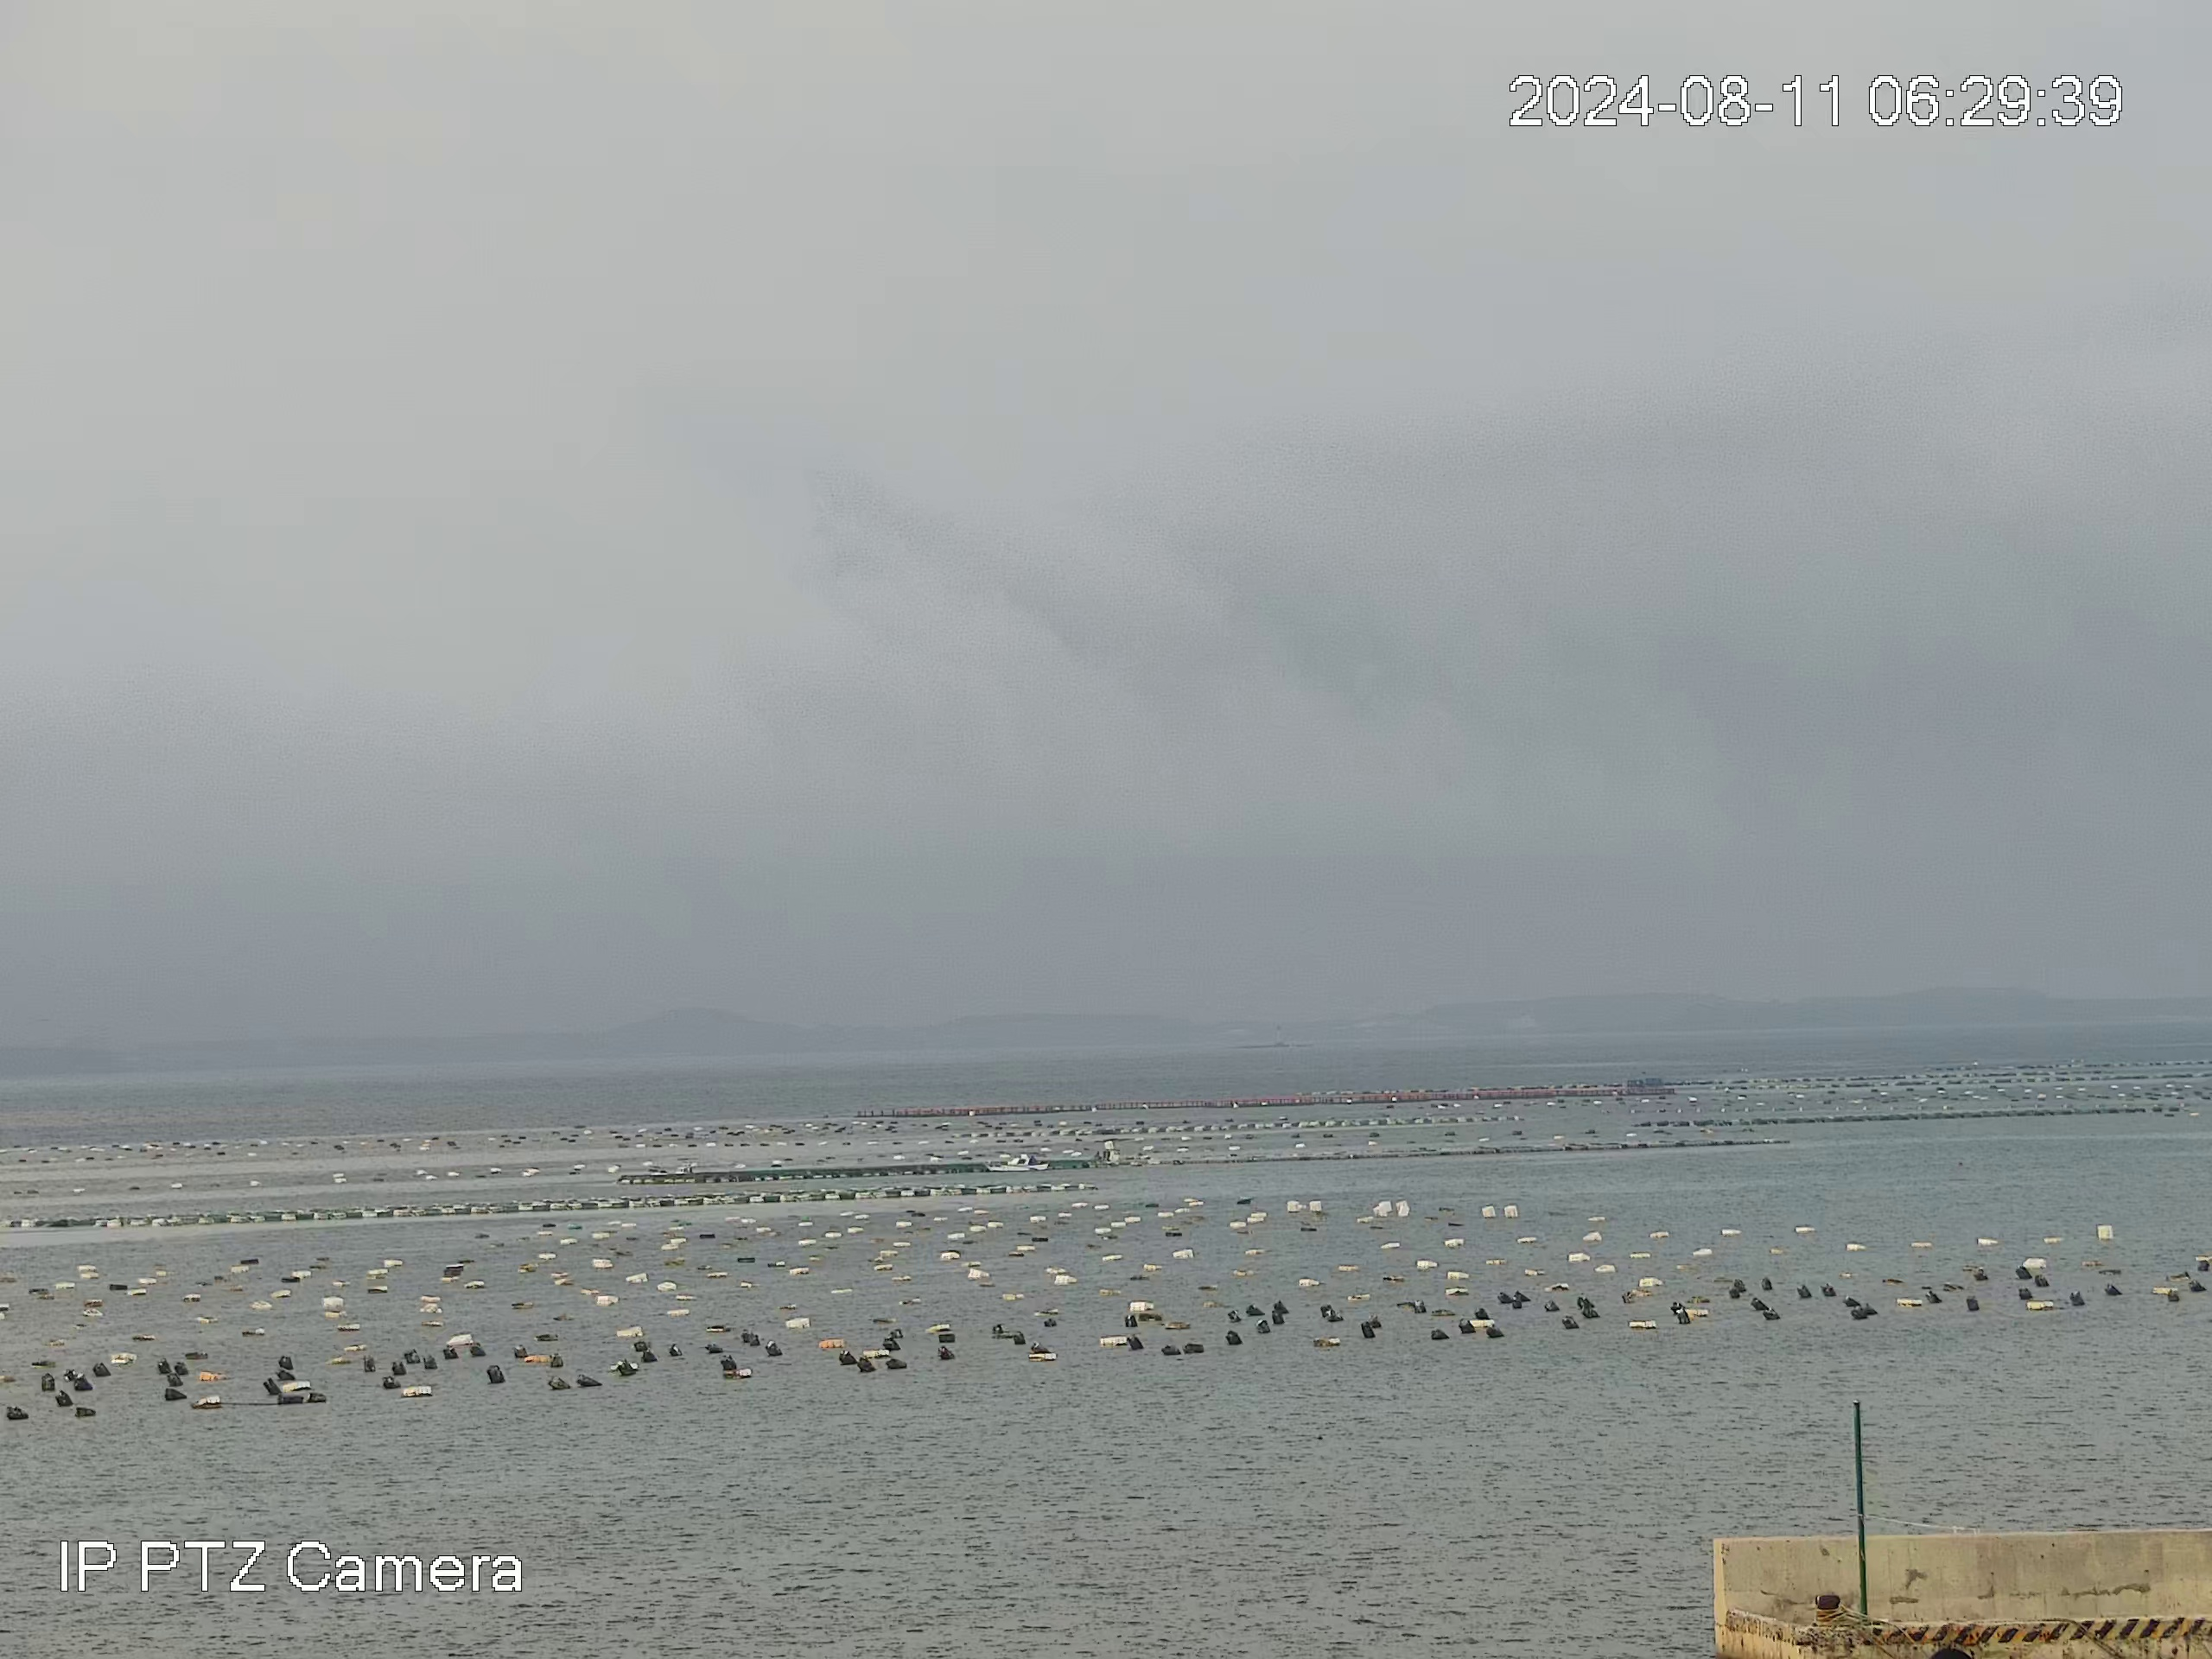boat: (981, 1152, 1052, 1175)
